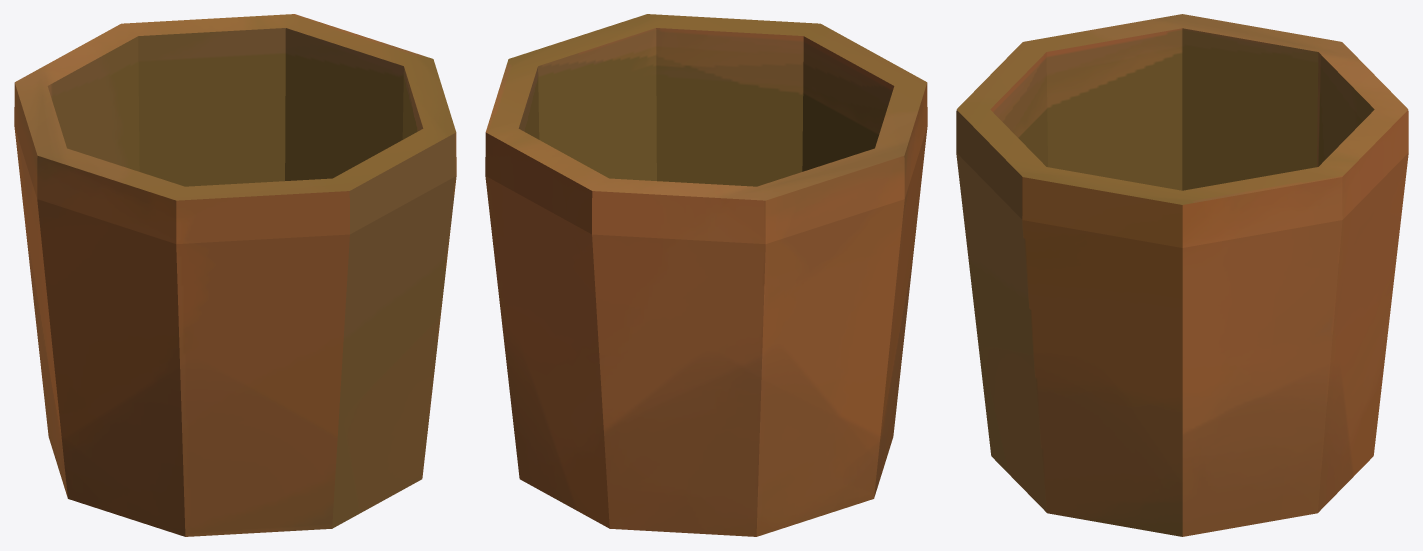
Rendered from Pot2.glb.
3 renders of one model, left to right at view 1: azimuth 30°, elevation 25°; view 2: azimuth 150°, elevation 25°; view 3: azimuth 270°, elevation 25°, orthographic.
Parts seen in each view (by area): view 1: PotOutdoor.028; view 2: PotOutdoor.028; view 3: PotOutdoor.028.
Boxes of the visible parts, left/top/right/bottom form: PotOutdoor.028: left=14, top=14, right=456, bottom=536; PotOutdoor.028: left=485, top=14, right=927, bottom=536; PotOutdoor.028: left=956, top=14, right=1408, bottom=536.
Size of the model in its own units: 0.4847 by 0.4096 by 0.4847.
Materials: 1 (1 with a texture image).
